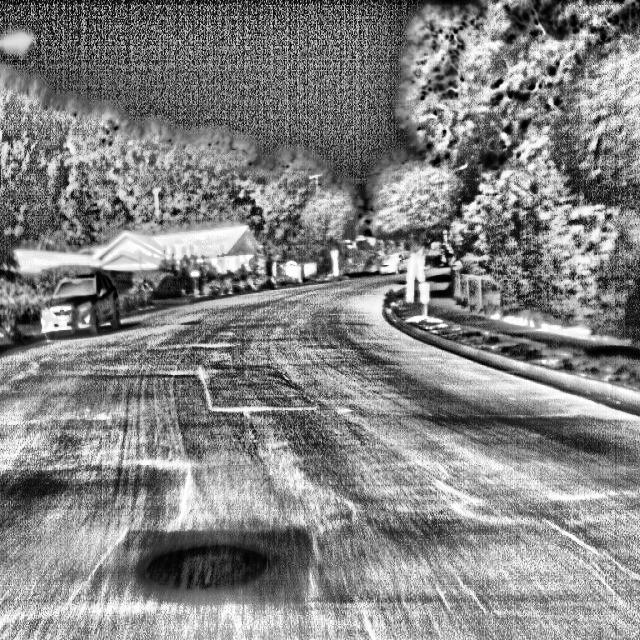car: (37, 267, 116, 352)
